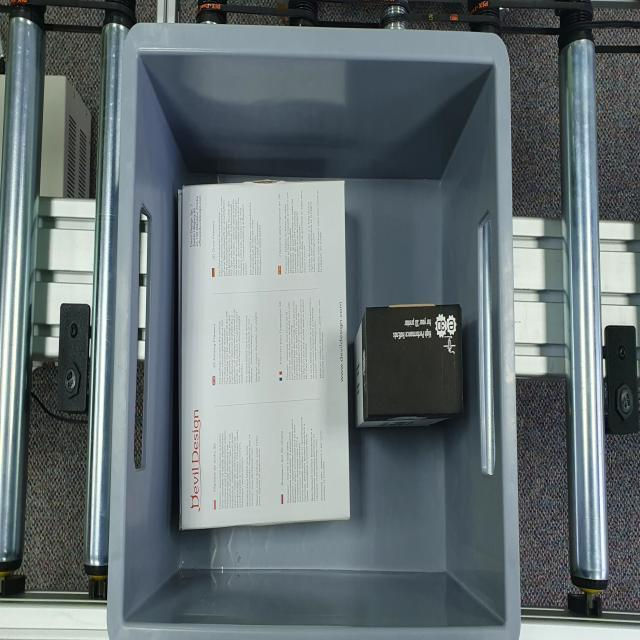box: (176, 175, 350, 529), (359, 309, 465, 419)
